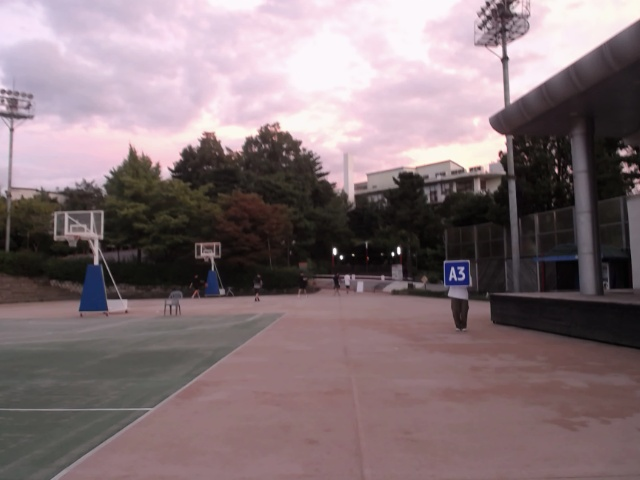delivery_a3: (443, 260, 471, 287)
